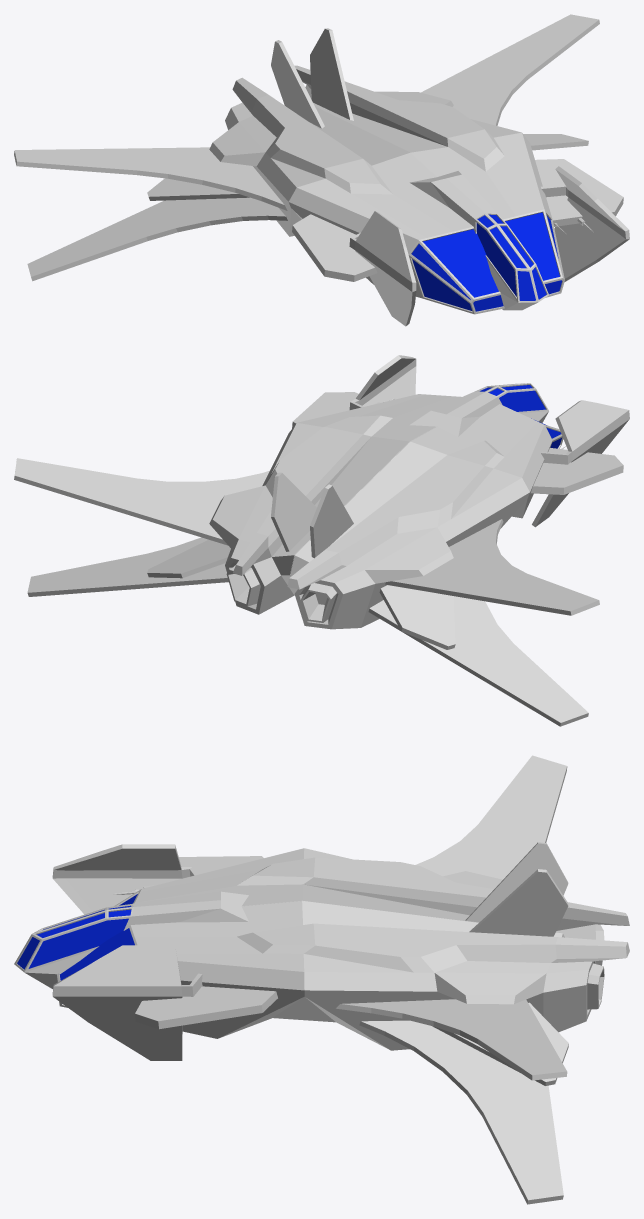
The model's file is SpaceShip.fbx.
The picture shows the model from 3 angles, top to bottom: view 1: azimuth 30°, elevation 25°; view 2: azimuth 150°, elevation 25°; view 3: azimuth 270°, elevation 25°; orthographic projection. The views are drawn at different scales.
Parts seen in each view (by area): view 1: Body, RW2, FW2, CB2, CB1, RW1, FW1; view 2: Body, RW2, RW1, FW2, FW1, CB1; view 3: Body, RW2, FW2, CB1, RW1, FW1, CB2.
Boxes of the visible parts, box(x1,y1,x2,y2) form: Body: box(209, 65, 552, 298); RW2: box(14, 14, 599, 281); FW2: box(349, 166, 629, 326); CB2: box(408, 209, 564, 314); CB1: box(410, 171, 548, 310); RW1: box(147, 28, 353, 200); FW1: box(292, 159, 623, 281); Body: box(209, 394, 552, 629); RW2: box(14, 458, 599, 726); RW1: box(147, 472, 455, 649); FW2: box(349, 355, 629, 527); FW1: box(292, 392, 623, 494); CB1: box(410, 383, 548, 436); Body: box(130, 848, 629, 1050); RW2: box(336, 755, 567, 1204); FW2: box(52, 844, 202, 1060); CB1: box(14, 891, 248, 988); RW1: box(432, 842, 568, 1085); FW1: box(112, 856, 277, 1029); CB2: box(57, 889, 141, 1007).
Size of the model in its own units: 7.27 by 2.09 by 5.9.
